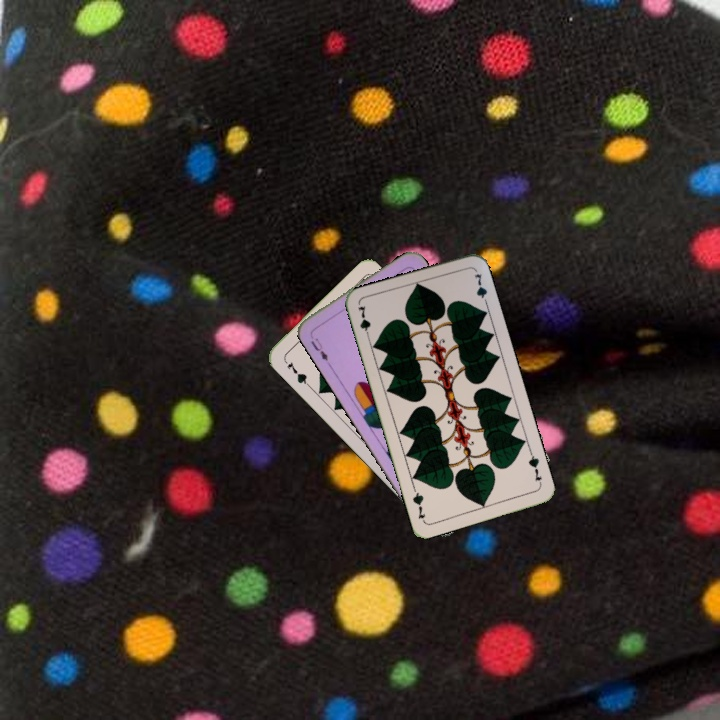EU: (306, 329, 331, 363)
G7: (280, 356, 312, 388), (524, 448, 545, 488), (354, 302, 373, 342)
